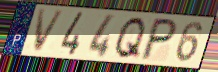4: (87, 12, 114, 59), (59, 10, 85, 58)
6: (174, 21, 205, 65)
P: (138, 16, 180, 62)
Q: (112, 15, 148, 61)
V: (33, 9, 67, 54)
